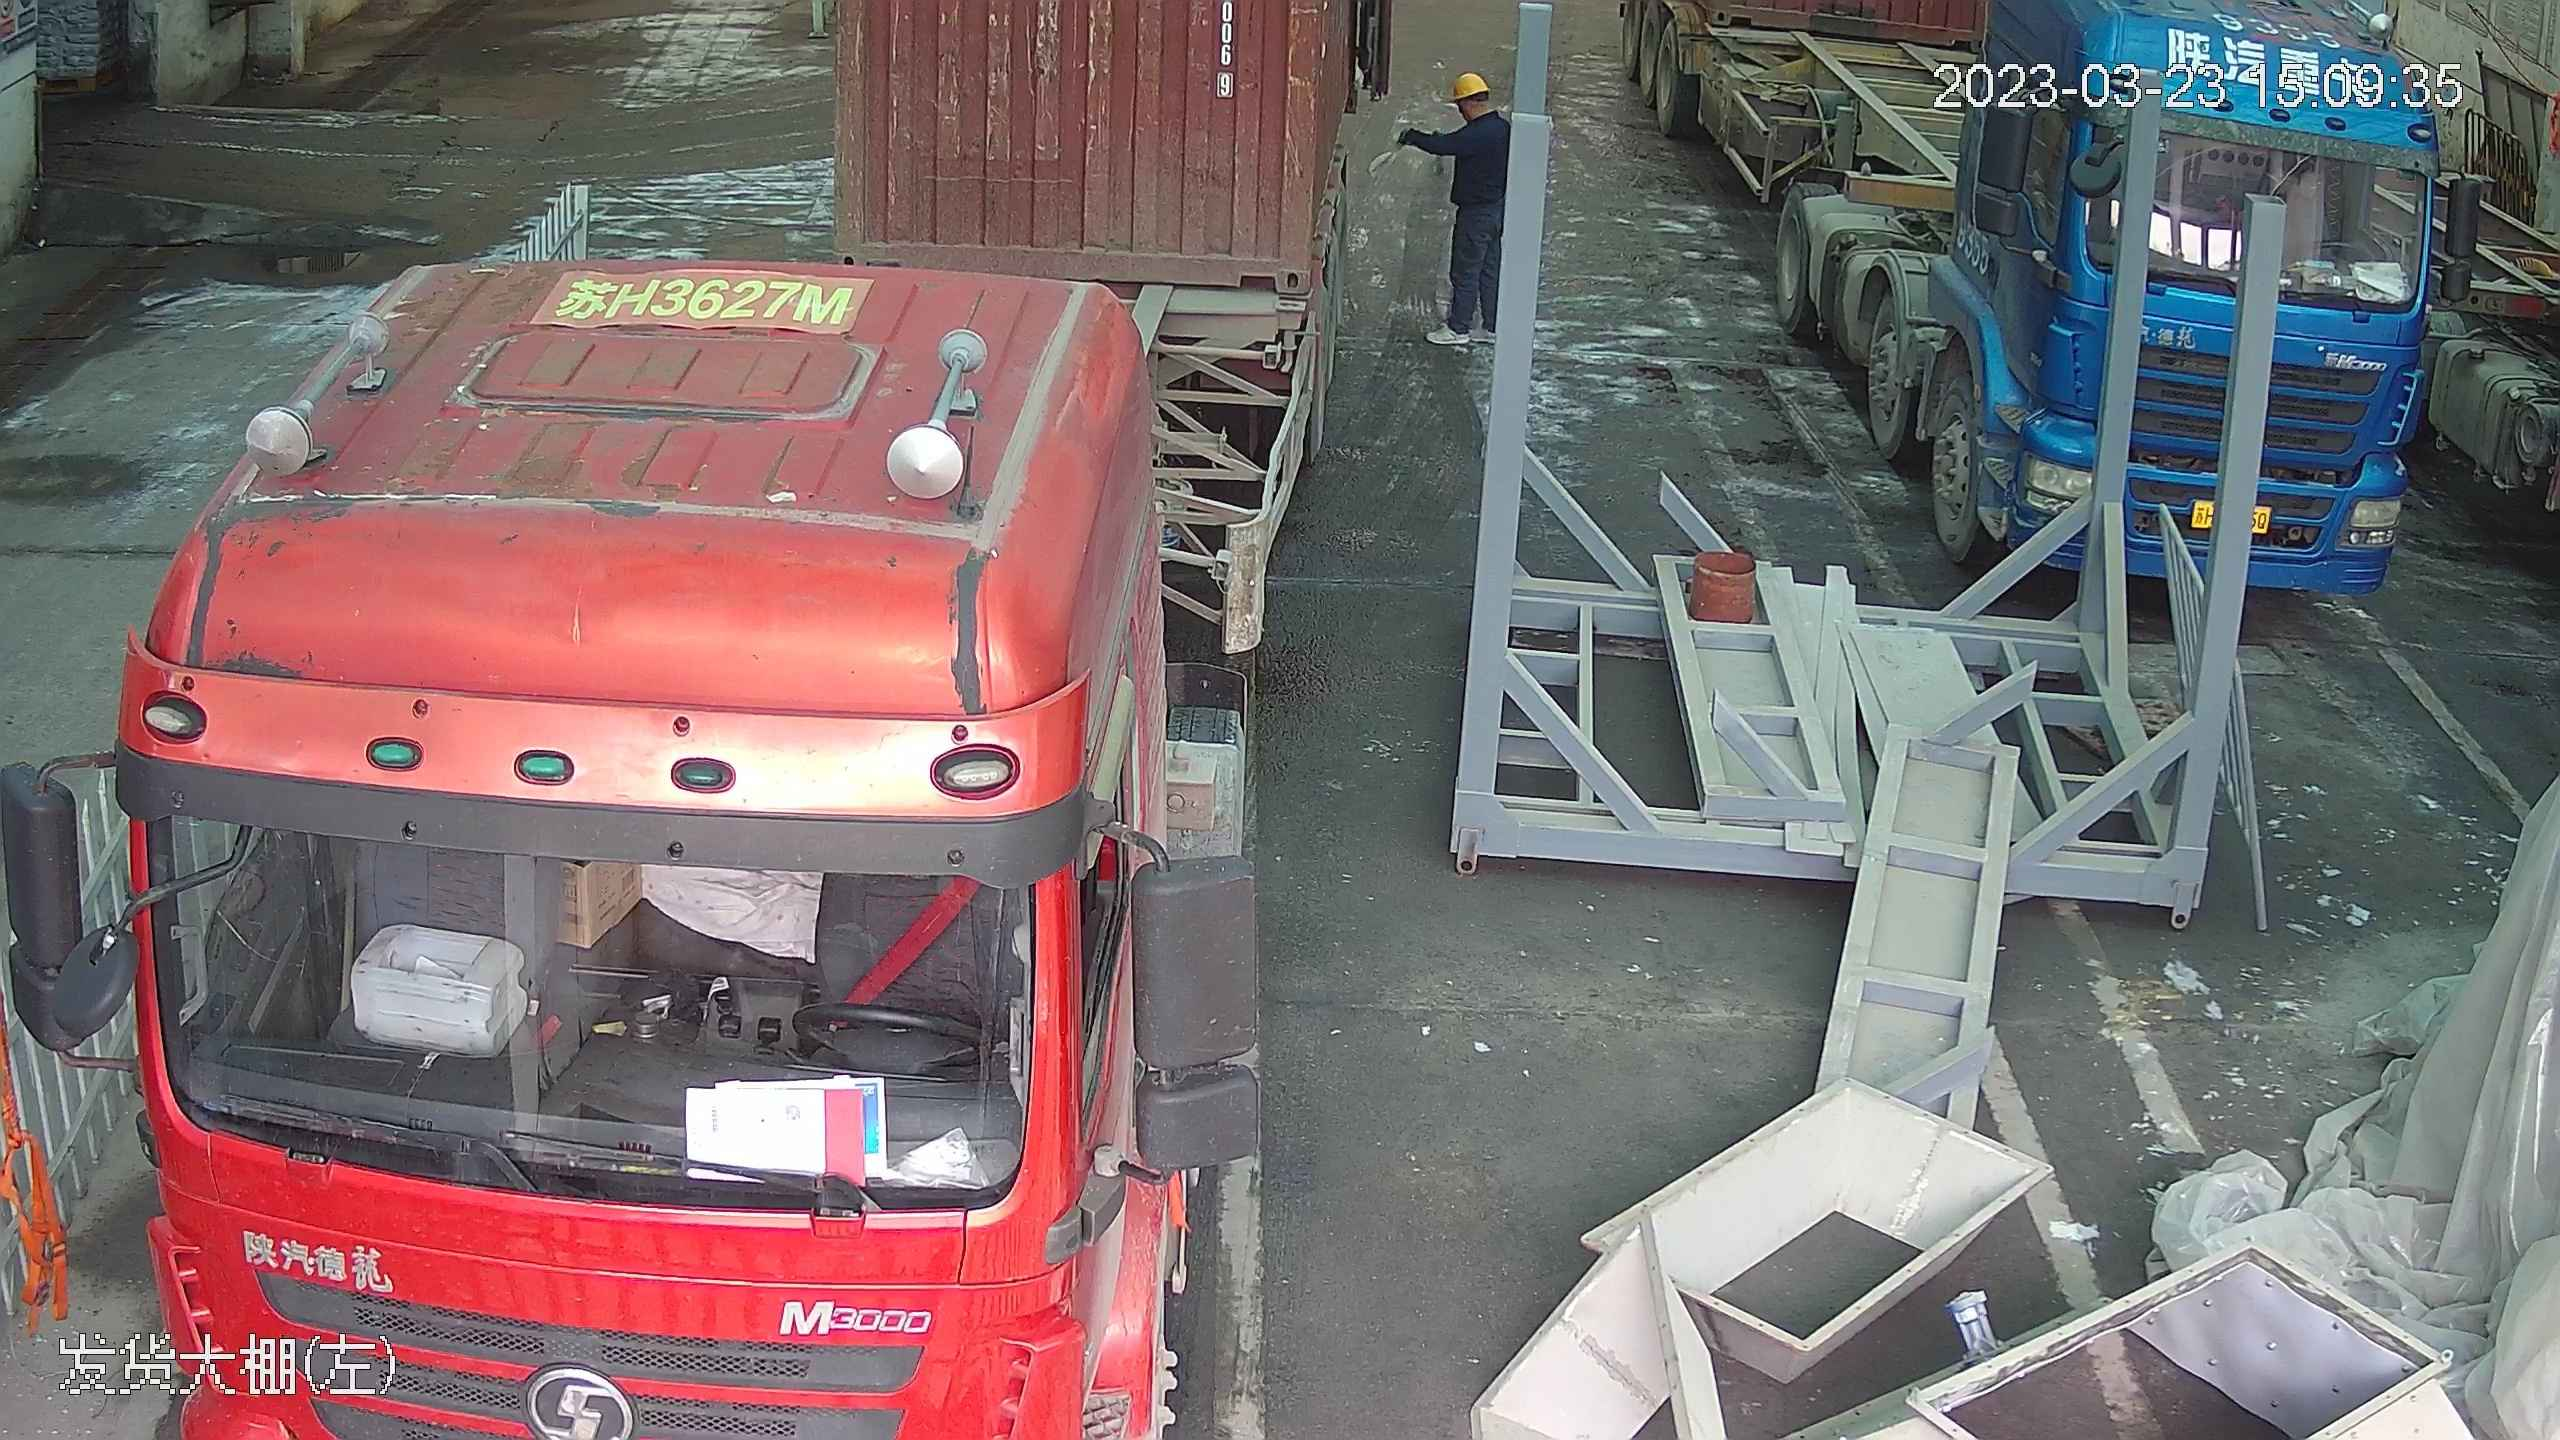head: (1447, 68, 1508, 154)
helmet: (1450, 69, 1490, 96)
people: (1403, 64, 1509, 343)
truck: (30, 0, 1285, 1440)
